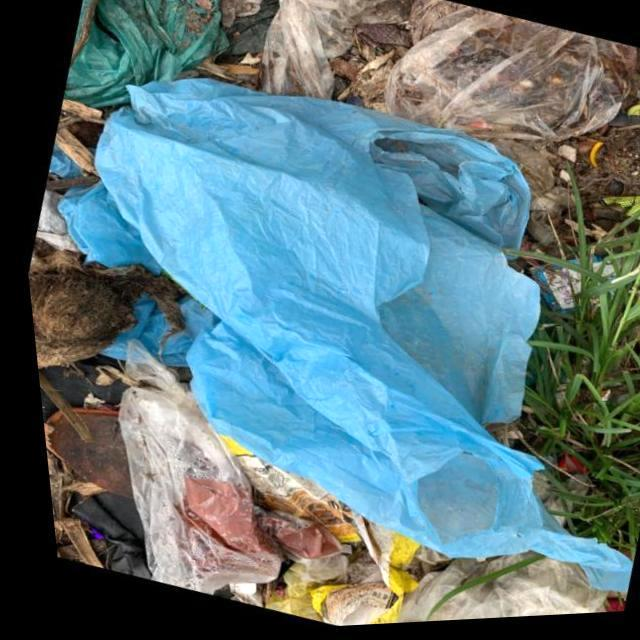polythene: (3, 6, 640, 630), (276, 280, 518, 535), (268, 47, 518, 195), (50, 0, 258, 148), (122, 366, 253, 593)
